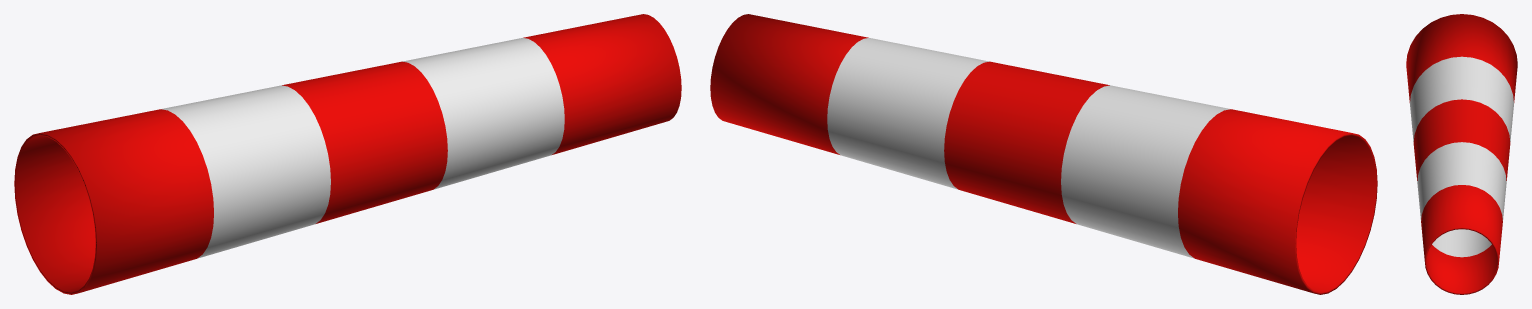
File: windsock.fbx
3 views of the same model, side by side, from view 1: azimuth 30°, elevation 25°; view 2: azimuth 150°, elevation 25°; view 3: azimuth 270°, elevation 25° (orthographic). The views are drawn at different scales.
Visible parts, largest first — view 1: Sock; view 2: Sock; view 3: Sock.
Boxes of the visible parts, <box> form: Sock: <box>14,14,681,294</box>; Sock: <box>710,14,1377,294</box>; Sock: <box>1406,14,1517,294</box>.
Size of the model in its own units: 250 by 60 by 60.
